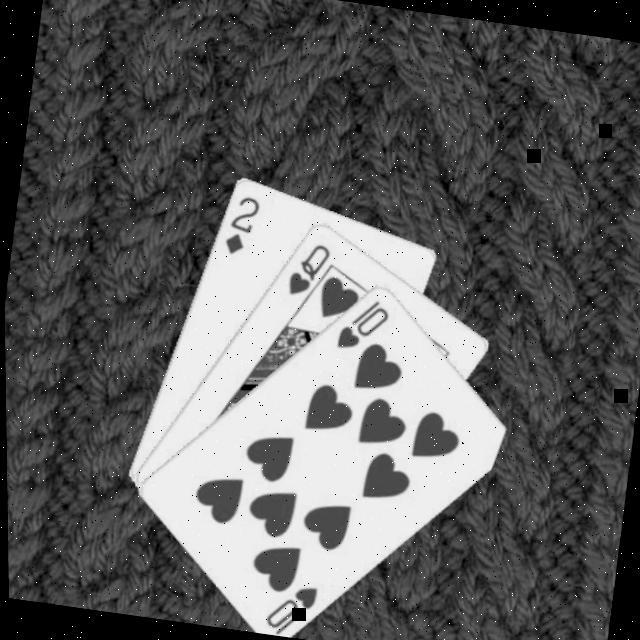10H: (255, 575, 320, 640), (329, 290, 392, 355)
2D: (217, 188, 263, 258)
QH: (280, 234, 333, 301)
